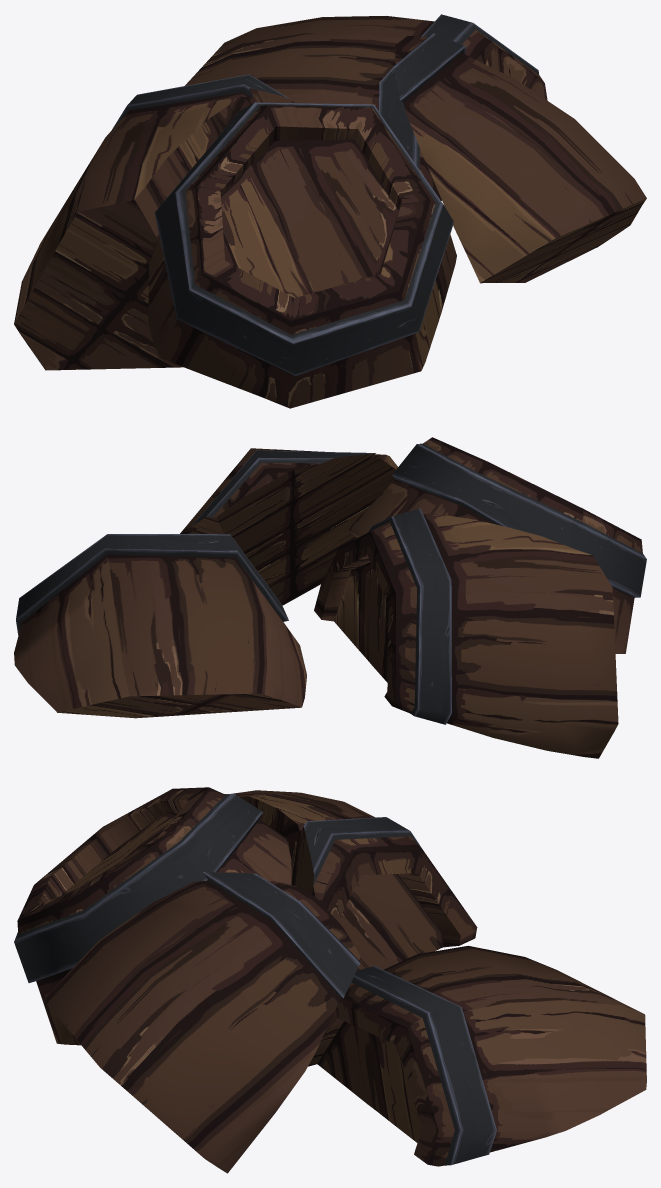
Rendered from Barrel_Broken.gltf.
3 views of the same model, one above another, from view 1: azimuth 30°, elevation 25°; view 2: azimuth 150°, elevation 25°; view 3: azimuth 270°, elevation 25° (orthographic). The views are drawn at different scales.
Parts seen in each view (by area): view 1: SM_PROP_barrel_dungeon_01_cell; view 2: SM_PROP_barrel_dungeon_01_cell; view 3: SM_PROP_barrel_dungeon_01_cell.
Boxes of the visible parts, x1,y1,x2,y2 form: SM_PROP_barrel_dungeon_01_cell: (14,14,646,408); SM_PROP_barrel_dungeon_01_cell: (14,437,646,758); SM_PROP_barrel_dungeon_01_cell: (14,787,646,1173).
Bounding box in the file's own units: 1.48 × 0.6072 × 1.39.
1 material, 1 textured.
